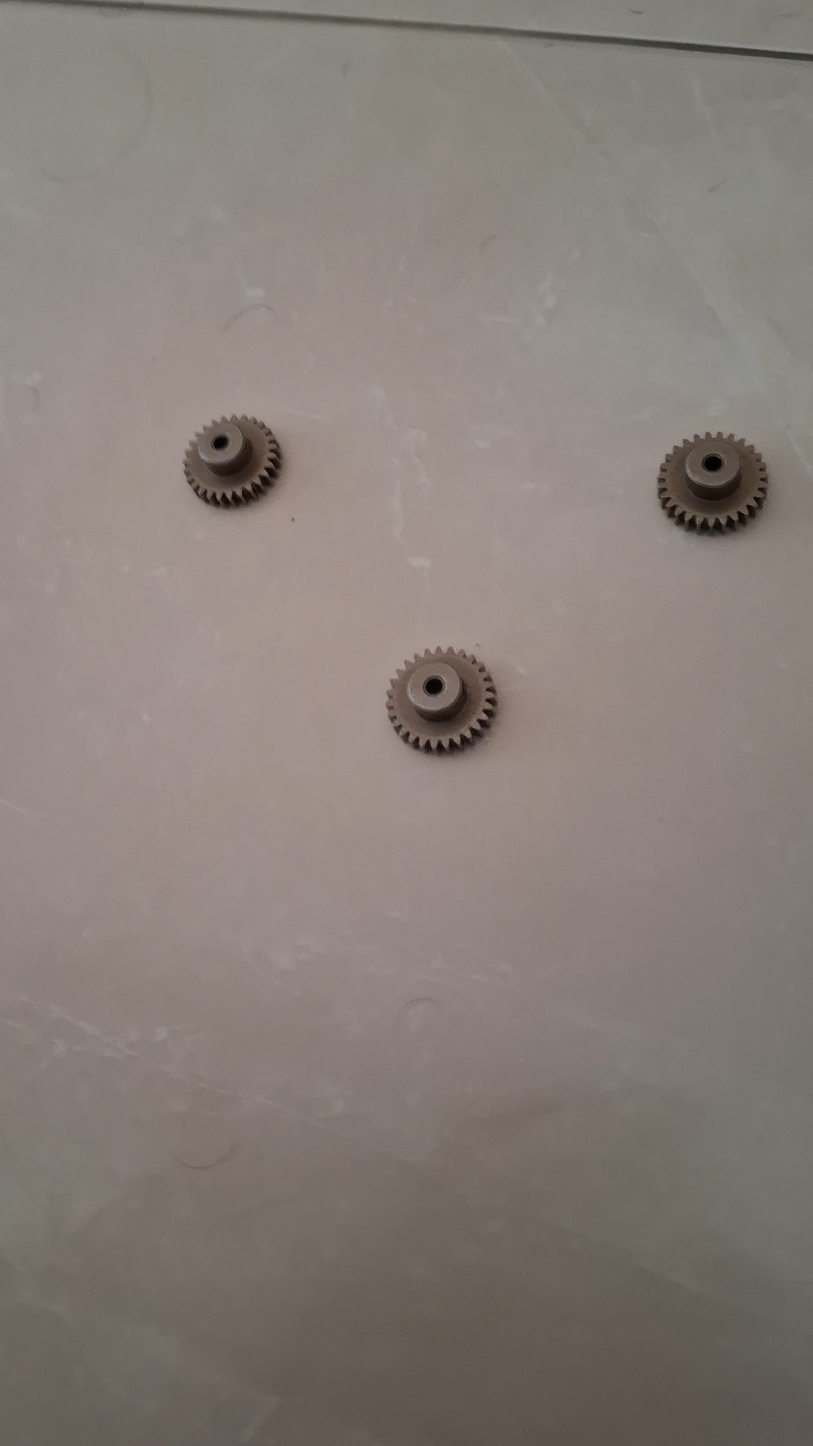spur gear: (387, 648, 496, 752), (658, 433, 768, 532), (185, 416, 281, 506)
